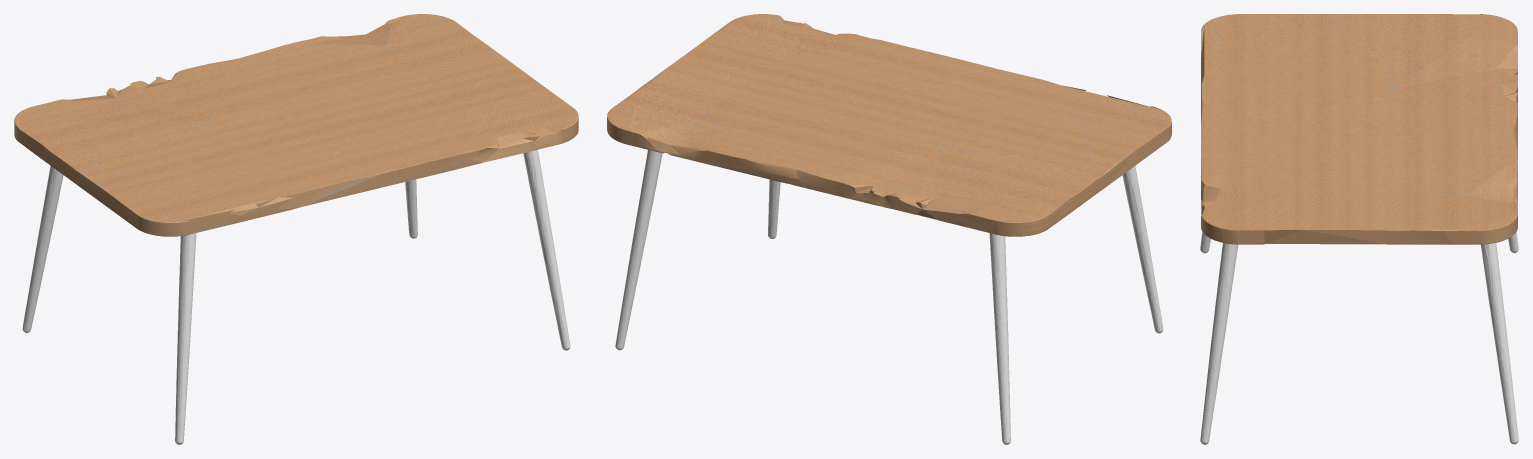
The model's file is desk.glb.
3 views of the same model, side by side, from view 1: azimuth 30°, elevation 25°; view 2: azimuth 150°, elevation 25°; view 3: azimuth 270°, elevation 25° (orthographic).
Bounding box in the file's own units: 1.9 × 0.9298 × 1.18.
Materials: 1 (1 with a texture image).
